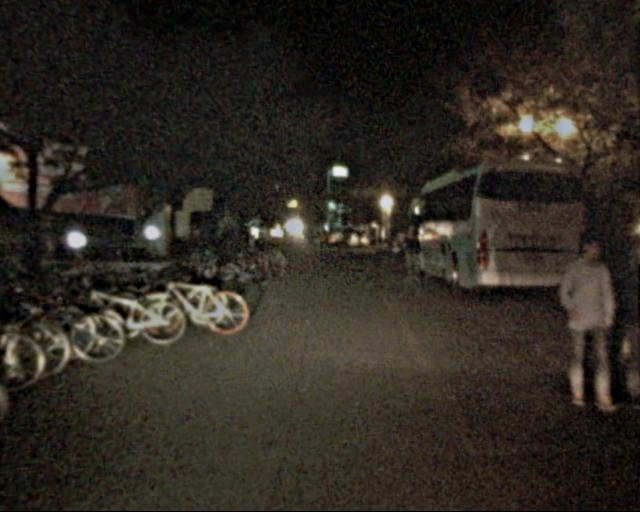person: (547, 234, 617, 405), (601, 240, 640, 401), (397, 224, 425, 292), (258, 226, 274, 264)
